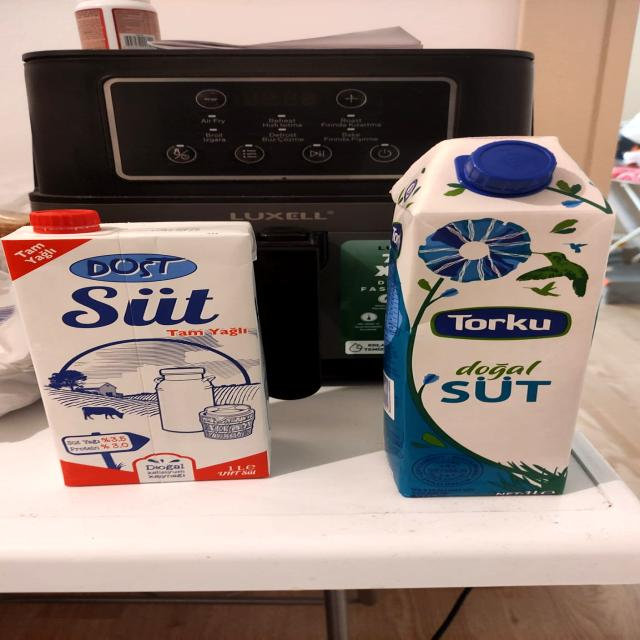milk: (370, 130, 618, 500), (4, 203, 283, 490)
